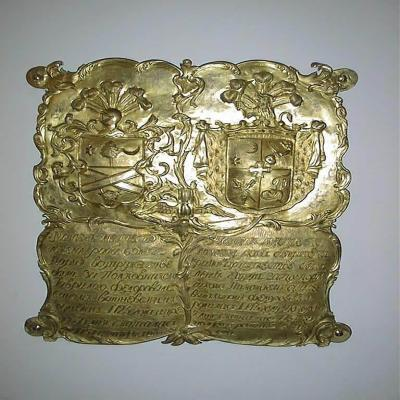sculpture: (24, 58, 359, 350)
